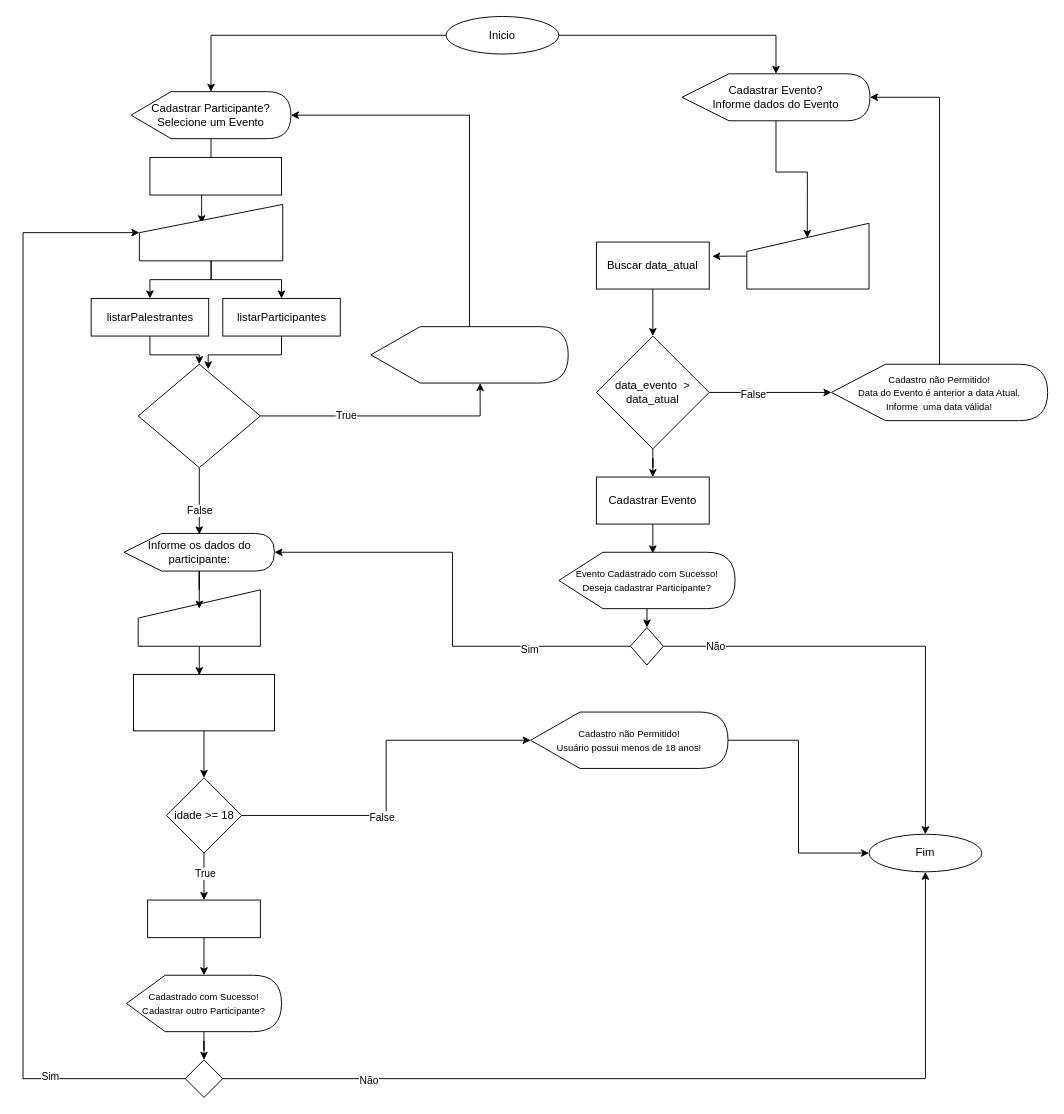
The diagram is 1064 pixels wide and 1114 high, and some of its shapes have lost their labels. Here are the shapes that lost their labels. From the top down, the centre of each, then its label:
the point at 215,176: listar _eventos
the point at 210,232: Evento Selecionado
the point at 807,255: nome_evento data_evento
the point at 469,354: Cadastro não Permitido! Evento com sua lotação Máxima! Escolha outro Evento!
the point at 198,415: listarParticipantes >= 100
the point at 198,617: nome_usuario data_nasc
the point at 203,702: idade = data_atual - data_nascimento
the point at 203,918: Cadastrar Participante
